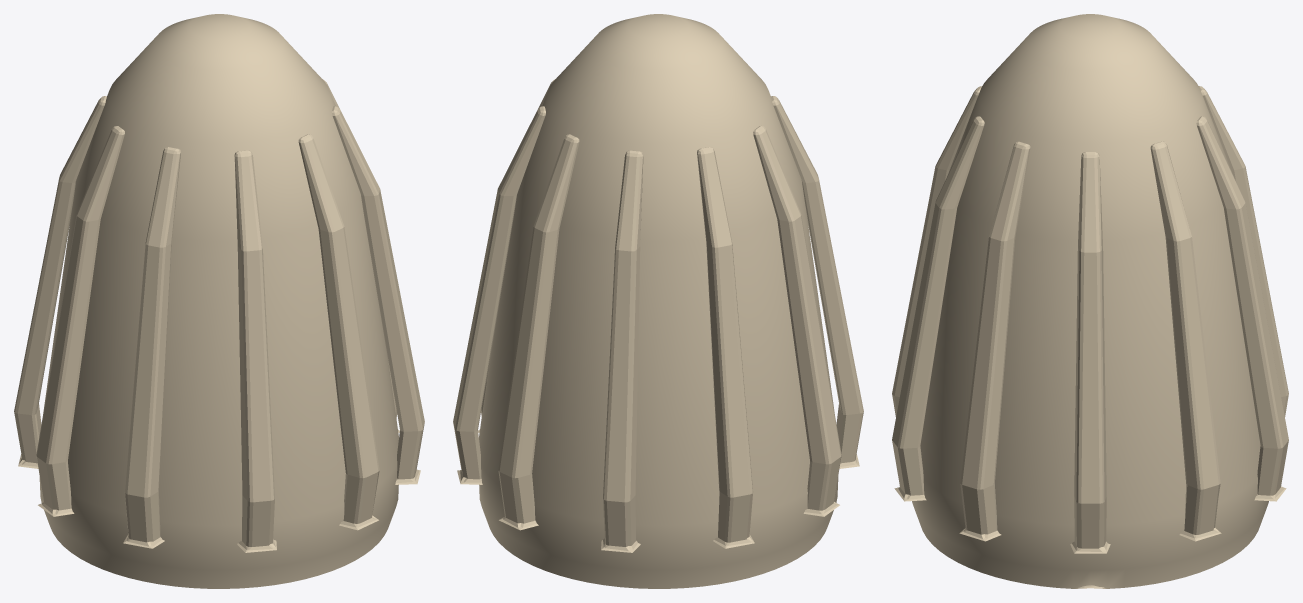
The model's file is wire_nut.glb.
3 views of the same model, side by side, from view 1: azimuth 30°, elevation 25°; view 2: azimuth 150°, elevation 25°; view 3: azimuth 270°, elevation 25° (orthographic).
Parts seen in each view (by area): view 1: WireNutShell, GripRib_07, GripRib_08, GripRib_09, GripRib_06, GripRib_10, GripRib_05; view 2: WireNutShell, GripRib_05, GripRib_03, GripRib_04, GripRib_06, GripRib_02, GripRib_07; view 3: WireNutShell, GripRib_10, GripRib_02, GripRib_01, GripRib_09, GripRib_03, GripRib_04, GripRib_08.
Part boxes in pixels (x1,y1,x2,y2): WireNutShell: (39, 14, 398, 588); GripRib_07: (123, 147, 180, 548); GripRib_08: (234, 150, 276, 552); GripRib_09: (298, 134, 379, 530); GripRib_06: (36, 126, 124, 516); GripRib_10: (332, 106, 424, 484); GripRib_05: (14, 96, 106, 468); WireNutShell: (479, 14, 838, 588); GripRib_05: (697, 147, 754, 548); GripRib_03: (498, 134, 579, 530); GripRib_04: (601, 150, 643, 552); GripRib_06: (753, 126, 841, 516); GripRib_02: (453, 106, 545, 484); GripRib_07: (771, 96, 863, 468); WireNutShell: (912, 14, 1268, 588); GripRib_10: (959, 141, 1030, 541); GripRib_02: (1150, 141, 1221, 541); GripRib_01: (1070, 152, 1110, 553); GripRib_09: (892, 116, 984, 501); GripRib_03: (1196, 116, 1288, 501); GripRib_04: (1199, 86, 1288, 416); GripRib_08: (892, 86, 981, 416).
Size of the model in its own units: 0.023 by 0.0303 by 0.0221.
